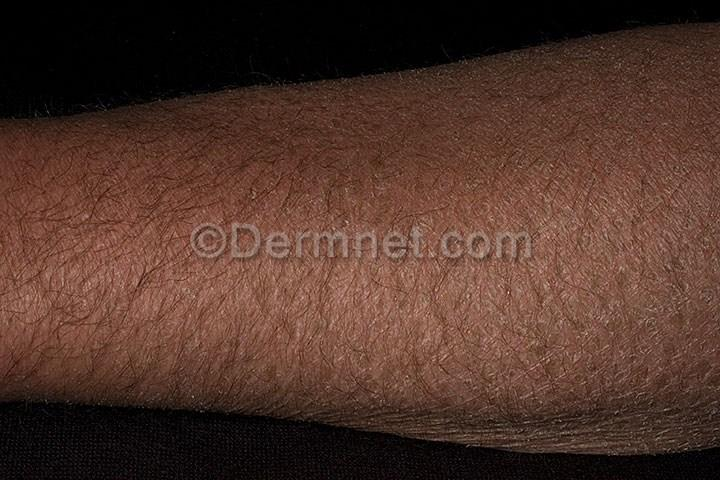Eritema 2: (0, 20, 719, 458)
liquenificacion 1: (0, 17, 719, 449)
xerosis 2: (0, 19, 719, 464)
